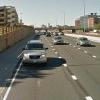Car: (50, 33, 67, 52)
